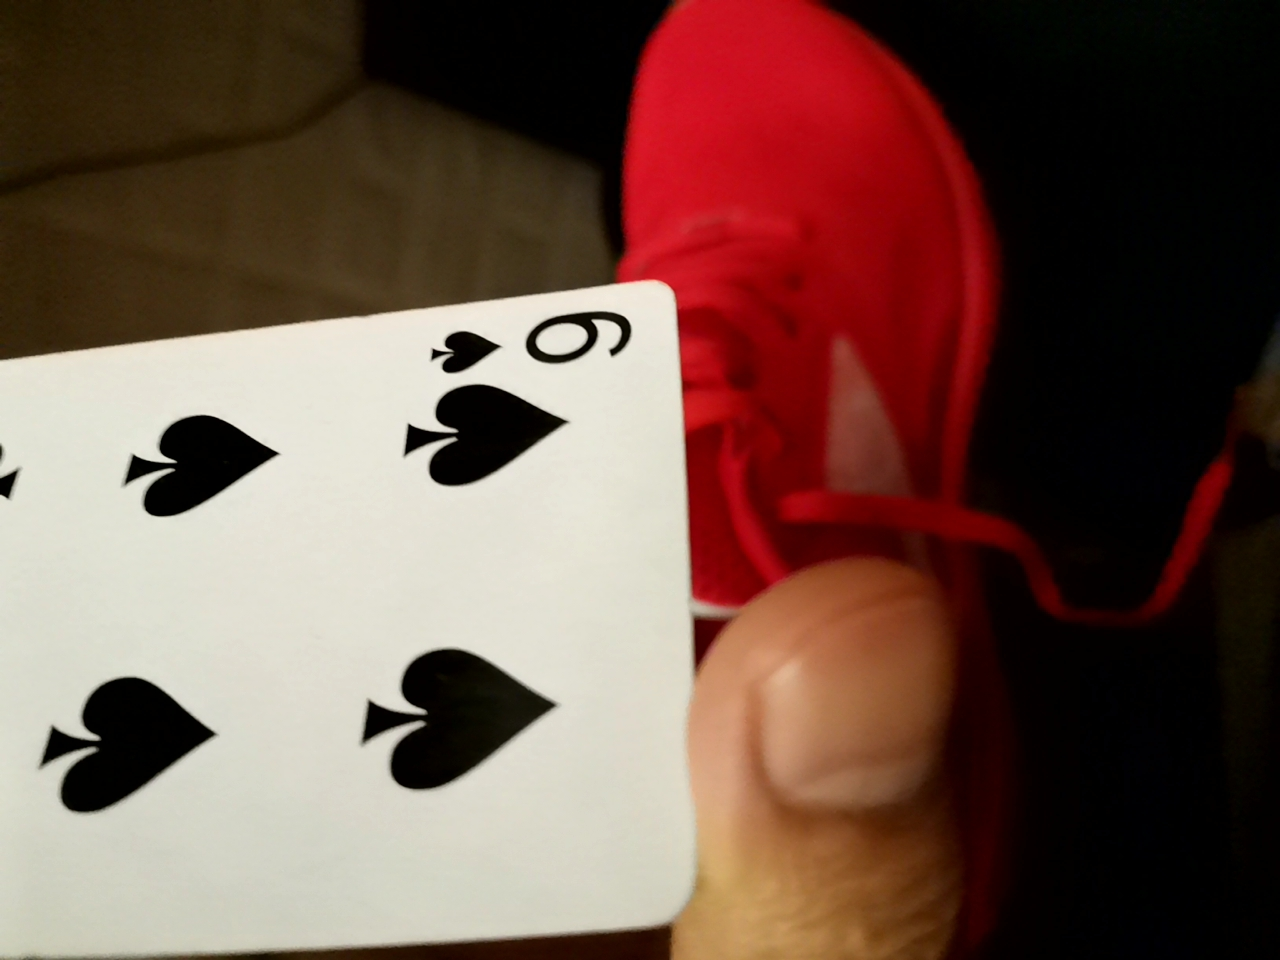ht 6: (2, 285, 729, 949)
